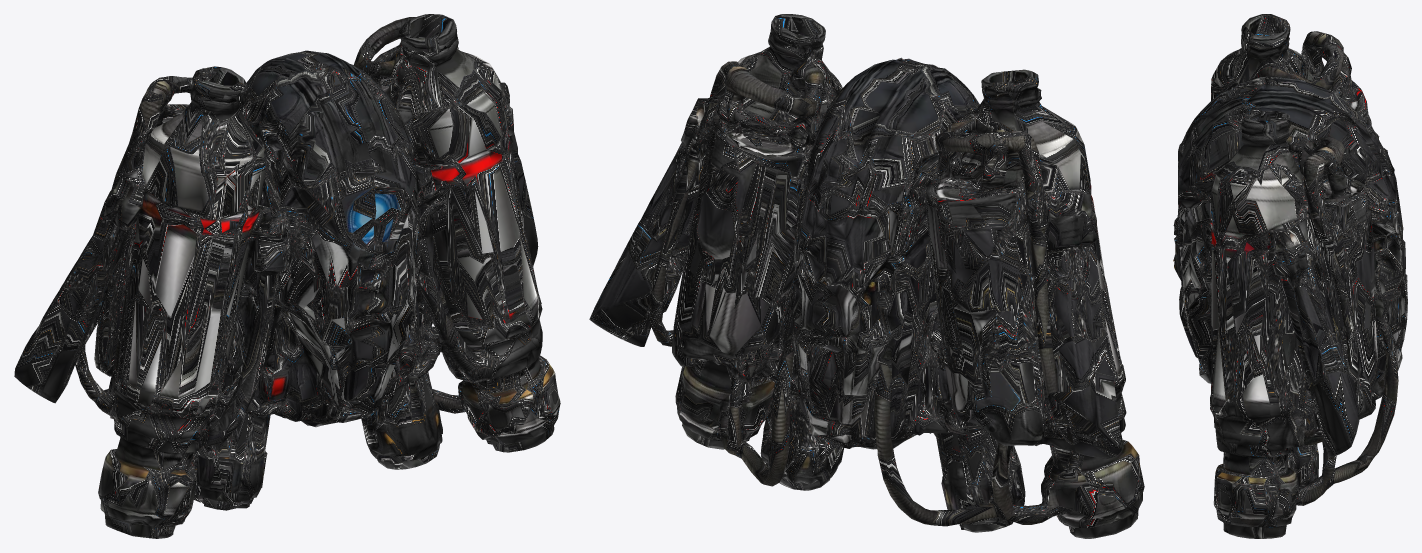
Rendered from jetpack.glb.
3 renders of one model, left to right at view 1: azimuth 30°, elevation 25°; view 2: azimuth 150°, elevation 25°; view 3: azimuth 270°, elevation 25°, orthographic. The views are drawn at different scales.
Bounding box in the file's own units: 0.7566 × 0.609 × 0.3299.
1 material, 1 textured.
